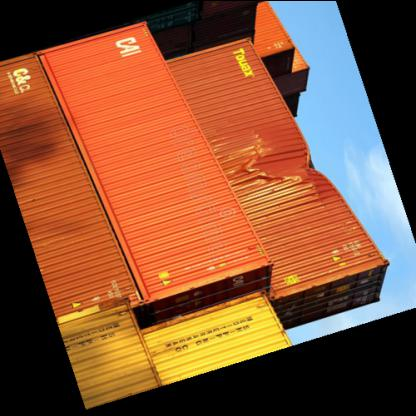Damage: (239, 138, 322, 193)
